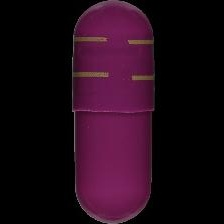52125-067: (0, 0, 224, 224)
